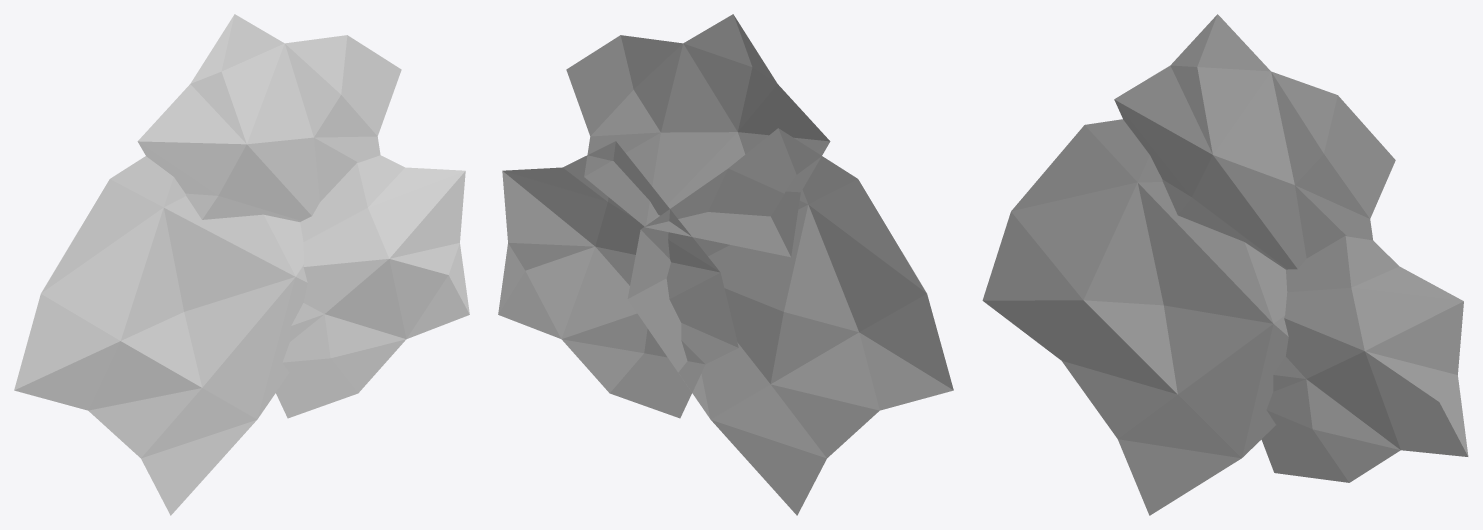
File: SM_Env_Ivy_13.glb
3 renders of one model, left to right at view 1: azimuth 30°, elevation 25°; view 2: azimuth 150°, elevation 25°; view 3: azimuth 330°, elevation 25°, orthographic. The views are drawn at different scales.
Visible parts, largest first — view 1: SM_Env_Ivy_13; view 2: SM_Env_Ivy_13; view 3: SM_Env_Ivy_13.
Part boxes in pixels (<box>): SM_Env_Ivy_13: <box>14,14,469,515</box>; SM_Env_Ivy_13: <box>498,14,953,515</box>; SM_Env_Ivy_13: <box>982,14,1468,515</box>.
Bounding box in the file's own units: 3.5 × 3.57 × 0.1109.
1 material, 1 textured.
